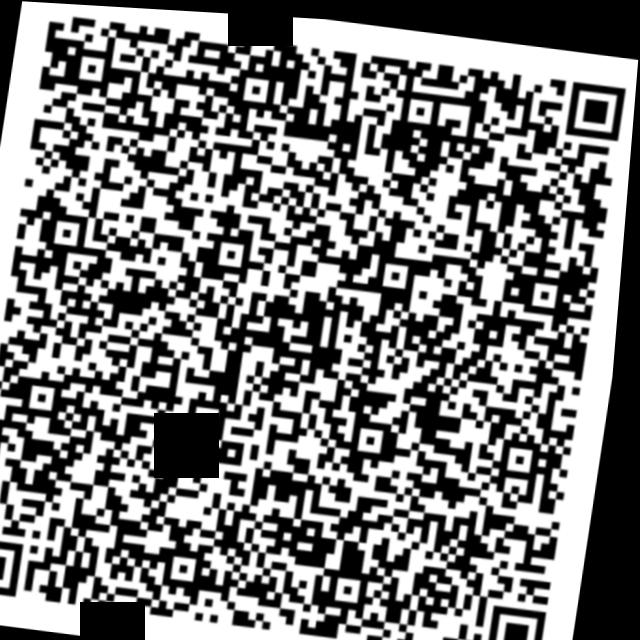QR_CODE: (0, 3, 640, 640)
